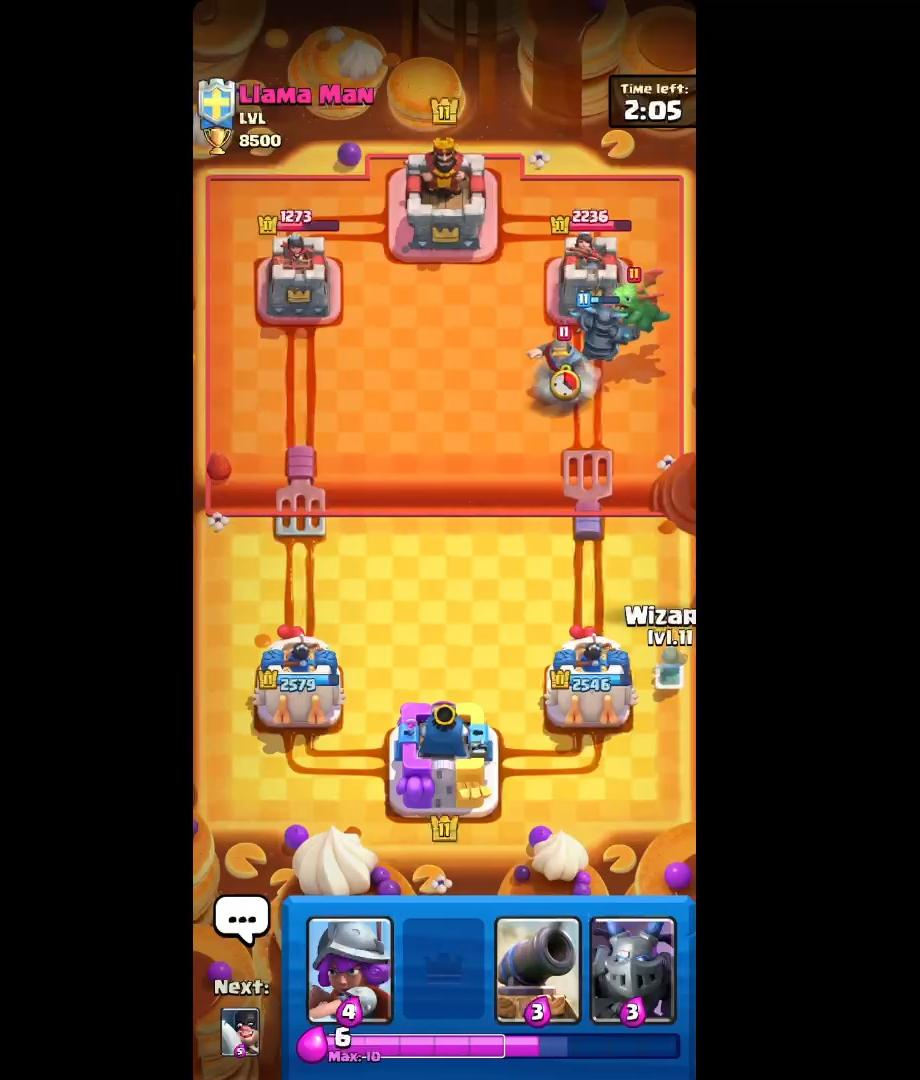Knight: (529, 319, 595, 413), (610, 259, 672, 341)
